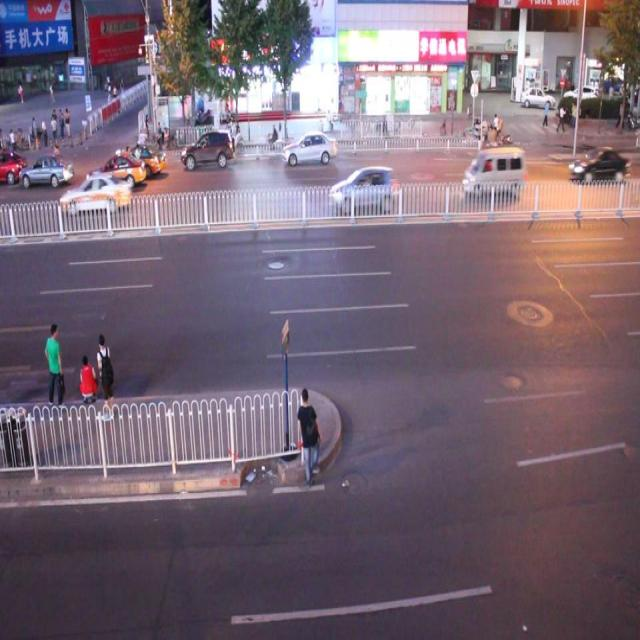car: (330, 166, 393, 212), (60, 173, 130, 212), (181, 130, 235, 168), (87, 152, 145, 187), (570, 146, 624, 181), (282, 131, 336, 165), (21, 154, 73, 186), (119, 142, 167, 176), (1, 147, 26, 180)
truck: (461, 149, 523, 199)
